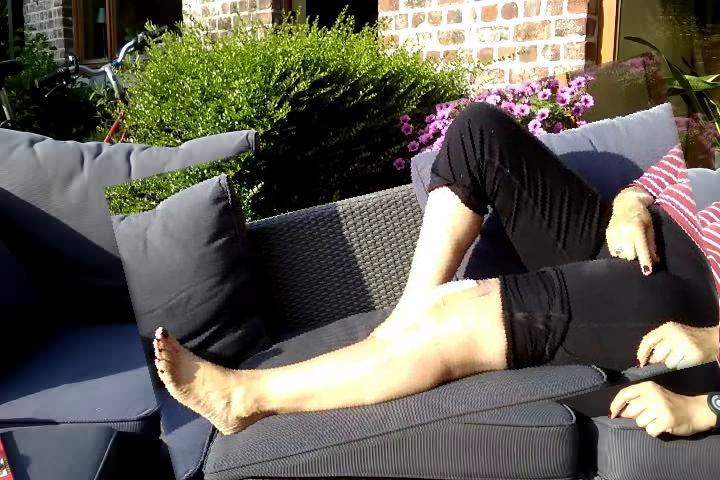lower_body: (119, 83, 720, 463)
